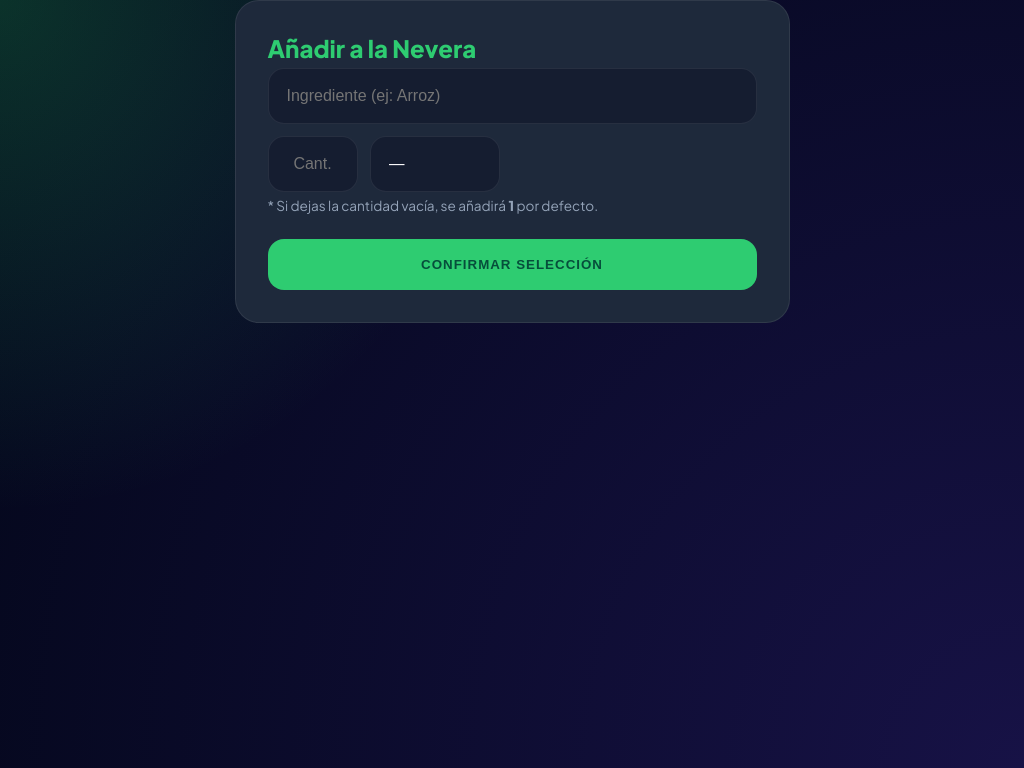
Buscador › Muestra mensaje de error local si la cantidad es 0 o menor
Type "ace" into the field with placeholder "Ingrediente (ej: Arroz)" at (512, 96), box x1=268 y1=68 x2=756 y2=124
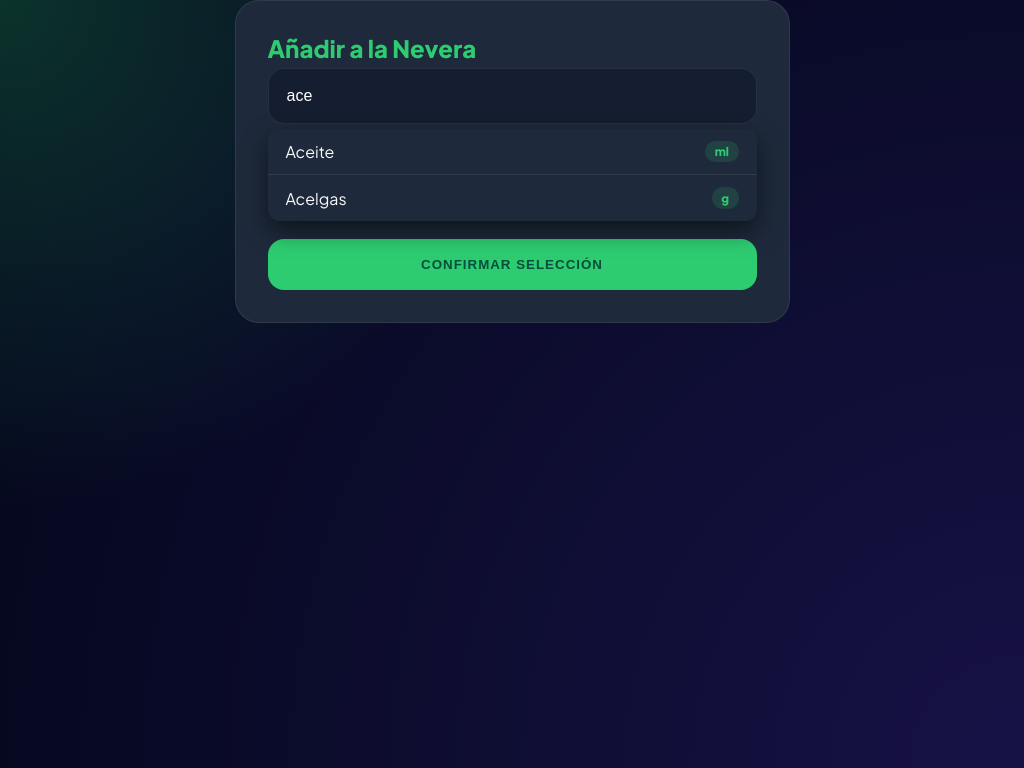
Click the text "Aceite" at (512, 152), box x1=268 y1=129 x2=756 y2=175
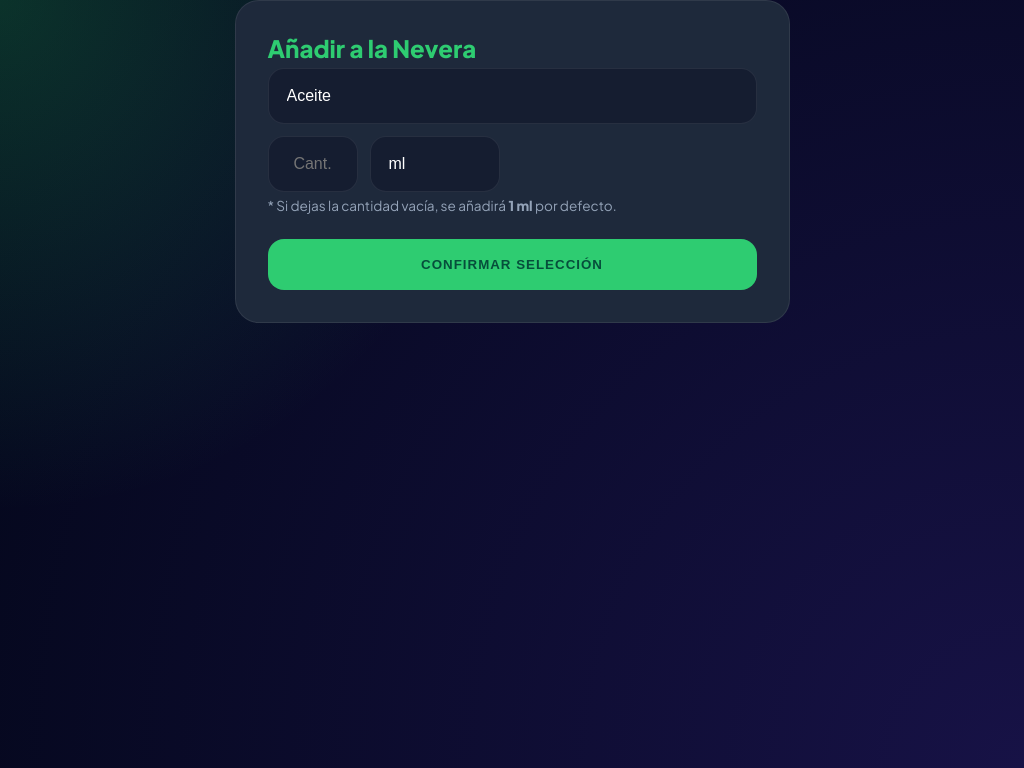
Type "0" into the number field with placeholder "Cant." at (312, 164), box x1=268 y1=136 x2=358 y2=192
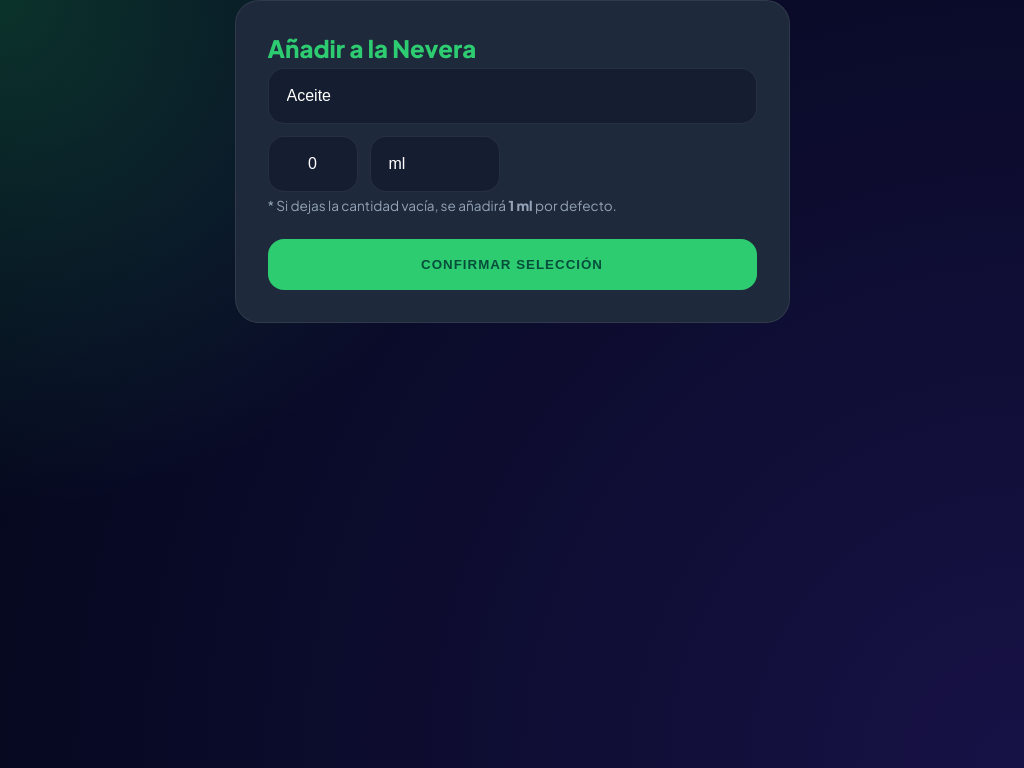
Click the button "Confirmar Selección" at (512, 264), box x1=268 y1=239 x2=756 y2=290
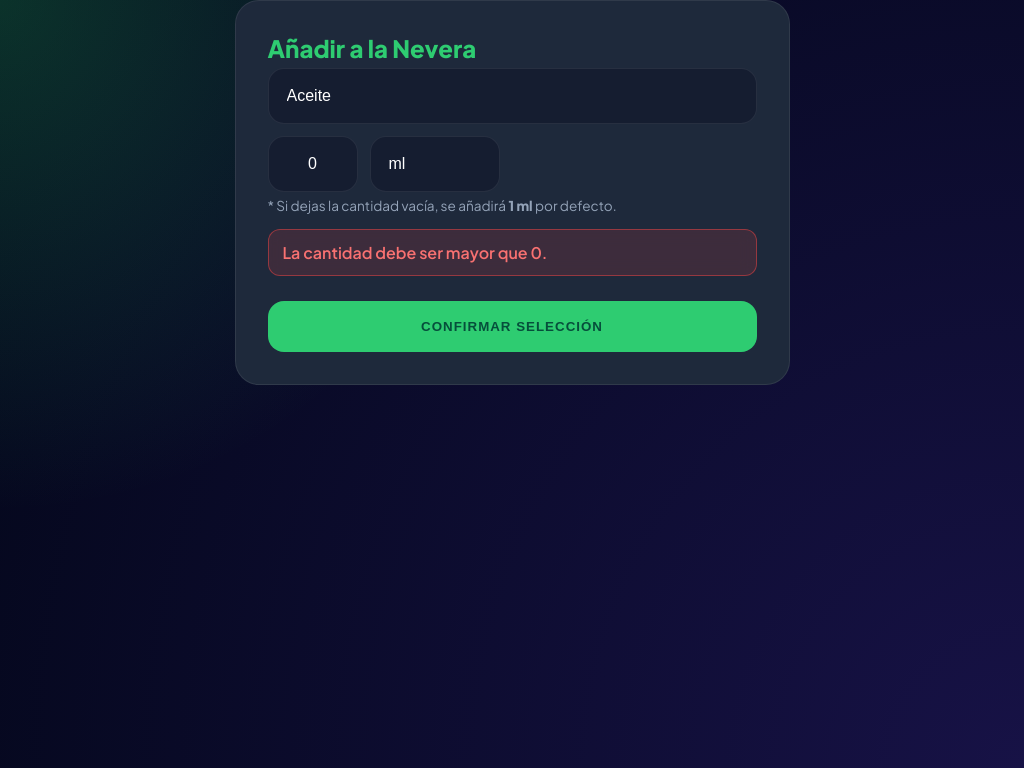
Check: the text "La cantidad debe ser mayor que 0." is shown, box x1=268 y1=229 x2=756 y2=276
